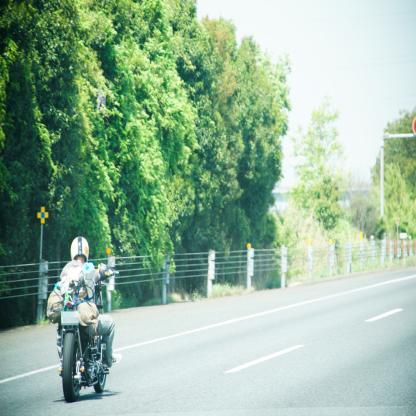Helmet: (70, 238, 88, 264)
